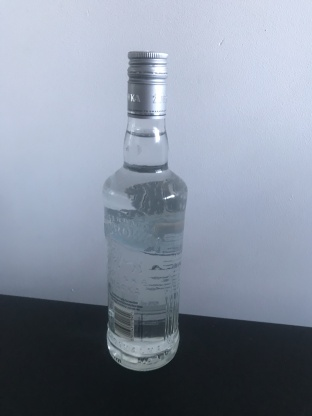nakretka: (125, 47, 169, 121)
